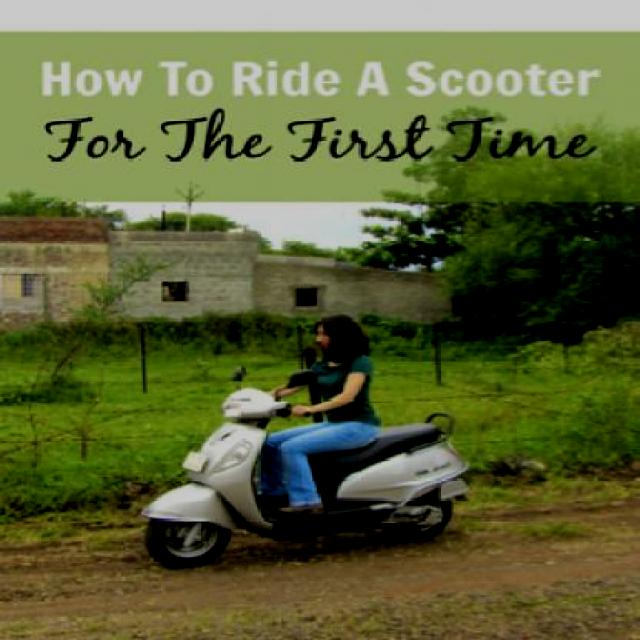Without Helmet: (306, 311, 372, 363)
